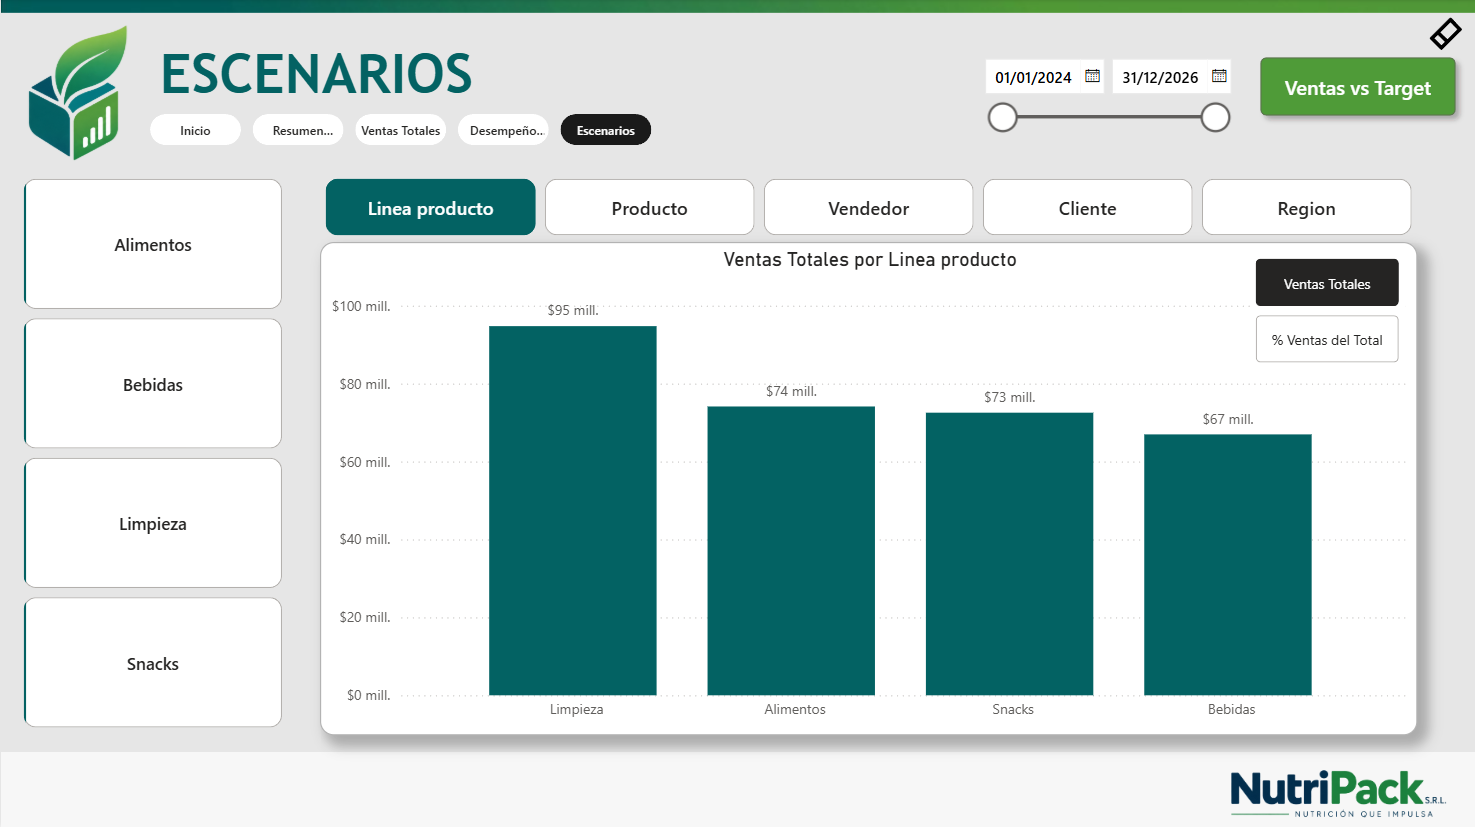

This screenshot's page, from the dashboard's own definition file:
{"tool":"powerbi","page":{"name":"Escenarios","canvas":[1280,720],"ordinal":4},"visuals":[{"type":"shape","box":[0,653.6,1280,66.4],"z":0},{"type":"slicer","fields":{"Values":["Calendario.Date"]},"box":[840.6,41.9,234.1,91],"z":1000},{"type":"pageNavigator","box":[129.4,99.6,436.6,27.9],"z":2000},{"type":"textbox","box":[131.9,31.2,283.7,68.5],"z":3000},{"type":"image","box":[15,20.3,94.5,123.7],"z":4000},{"type":"image","box":[1067,664.7,187.3,50],"z":5000},{"type":"image","box":[0,0,1280.9,12],"z":6000},{"type":"clusteredColumnChart","fields":{"Category":["Producto.Linea"],"Y":["Ventas.(M) VentasTotales"]},"box":[276.5,210.4,952.3,428.2],"z":7000},{"type":"advancedSlicerVisual","fields":{"Values":["prm.Campos - Dimensión.prm.Campos"]},"box":[276.5,150.8,952.3,59.6],"z":8000},{"type":"advancedSlicerVisual","fields":{"Values":["Producto.Linea"]},"box":[14.9,150.8,234.6,487.8],"z":9000},{"type":"advancedSlicerVisual","fields":{"Values":["prm.Campos - Metrica.prm.Campos - Metrica"]},"box":[1083.6,220.6,135,100.5],"z":10000},{"type":"actionButton","box":[1083.5,41.9,187.4,68.5],"z":11000},{"type":"actionButton","box":[1235.5,11.8,44.5,36.4],"z":12000}]}

Visuals, with their boxes in screenshot pixels (x1, y1, x2, y2), scaled from the page's 1280x720 canvas onto the 1475x827 screenshot:
shape: [x1=0, y1=751, x2=1474, y2=826]
slicer - Calendario.Date: [x1=969, y1=48, x2=1238, y2=153]
pageNavigator: [x1=149, y1=114, x2=652, y2=146]
textbox: [x1=152, y1=36, x2=479, y2=115]
image: [x1=17, y1=23, x2=126, y2=165]
image: [x1=1230, y1=763, x2=1445, y2=821]
image: [x1=0, y1=0, x2=1474, y2=14]
clusteredColumnChart - Producto.Linea x Ventas.(M) VentasTotales: [x1=319, y1=242, x2=1416, y2=734]
advancedSlicerVisual - prm.Campos - Dimensión.prm.Campos: [x1=319, y1=173, x2=1416, y2=242]
advancedSlicerVisual - Producto.Linea: [x1=17, y1=173, x2=288, y2=734]
advancedSlicerVisual - prm.Campos - Metrica.prm.Campos - Metrica: [x1=1249, y1=253, x2=1404, y2=369]
actionButton: [x1=1249, y1=48, x2=1465, y2=127]
actionButton: [x1=1424, y1=14, x2=1474, y2=55]
